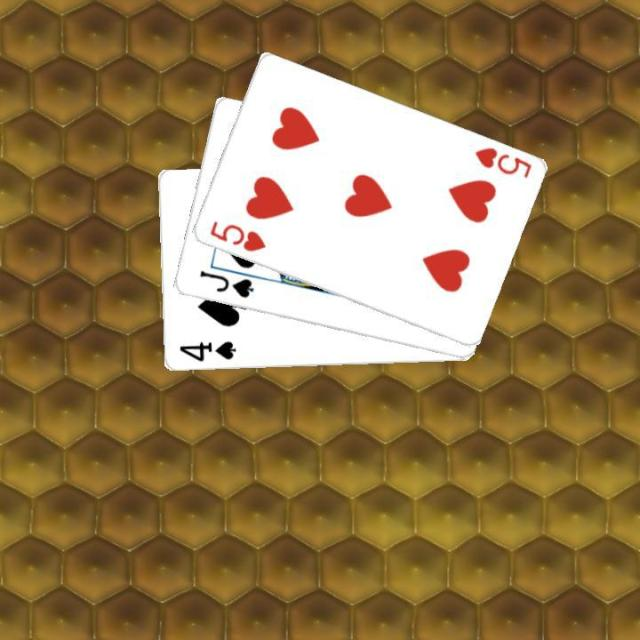4S: (175, 338, 238, 364)
5H: (470, 143, 532, 181), (205, 217, 268, 254)
JS: (196, 266, 255, 300)
